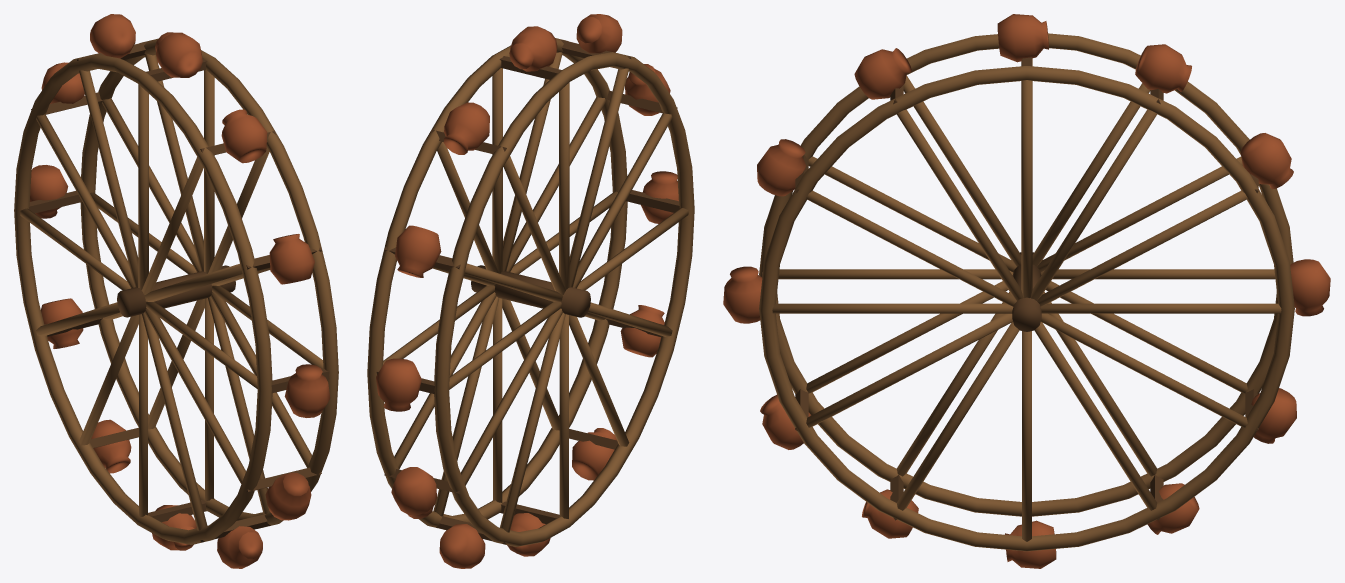
File: saegemuehle_rad.glb
The picture shows the model from 3 angles, left to right: view 1: azimuth 30°, elevation 25°; view 2: azimuth 150°, elevation 25°; view 3: azimuth 270°, elevation 25°; orthographic projection. The views are drawn at different scales.
Parts seen in each view (by area): view 1: Torus; view 2: Torus; view 3: Torus.
Boxes of the visible parts, left/top/right/bottom form: Torus: left=14, top=14, right=338, bottom=568; Torus: left=367, top=14, right=694, bottom=568; Torus: left=723, top=14, right=1330, bottom=568.
Size of the model in its own units: 0.8 by 3.74 by 3.74.
